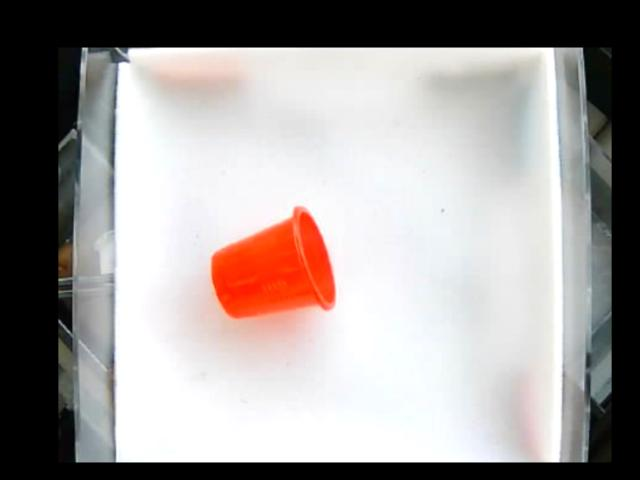Cup: (207, 206, 337, 323)
